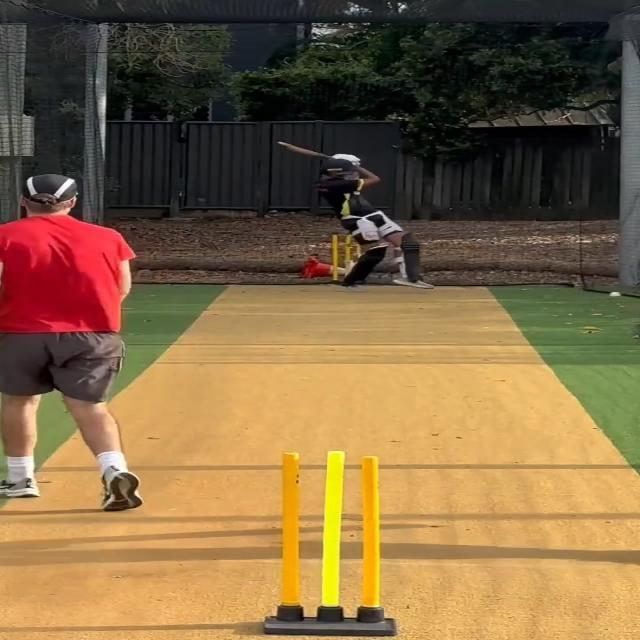ball: (609, 290, 623, 298)
stump: (265, 449, 397, 638)
